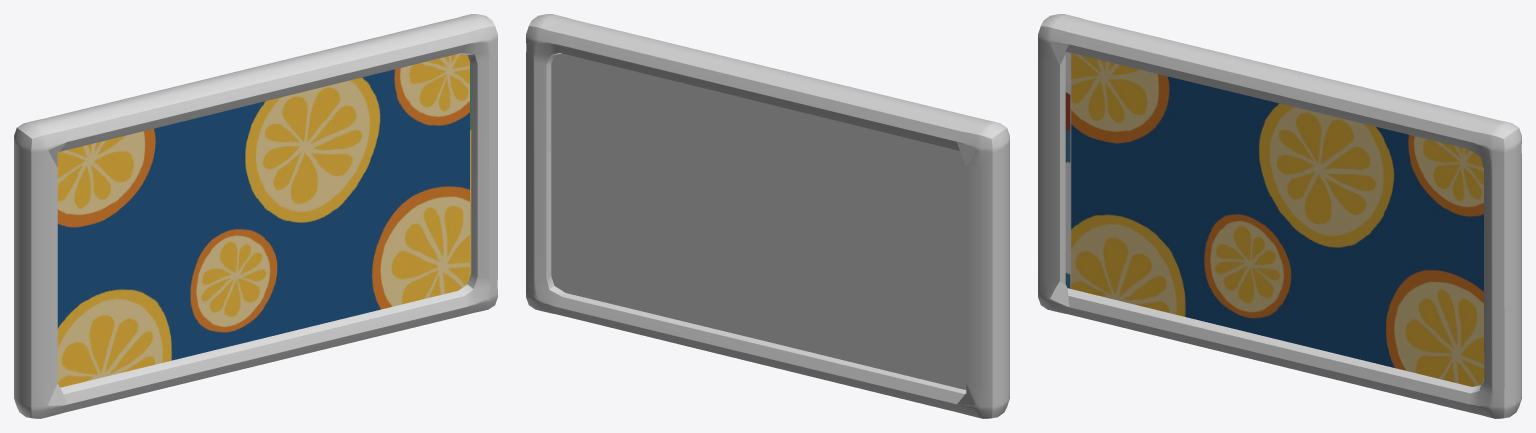
The model's file is PhotoV2.fbx.
The picture shows the model from 3 angles, left to right: view 1: azimuth 30°, elevation 25°; view 2: azimuth 150°, elevation 25°; view 3: azimuth 330°, elevation 25°; orthographic projection.
Parts seen in each view (by area): view 1: pCube127; view 2: pCube127; view 3: pCube127.
Boxes of the visible parts, x1,y1,x2,y2 form: pCube127: (14,14,497,418); pCube127: (526,14,1009,418); pCube127: (1038,14,1521,418).
Size of the model in its own units: 109 by 64.18 by 8.73.
